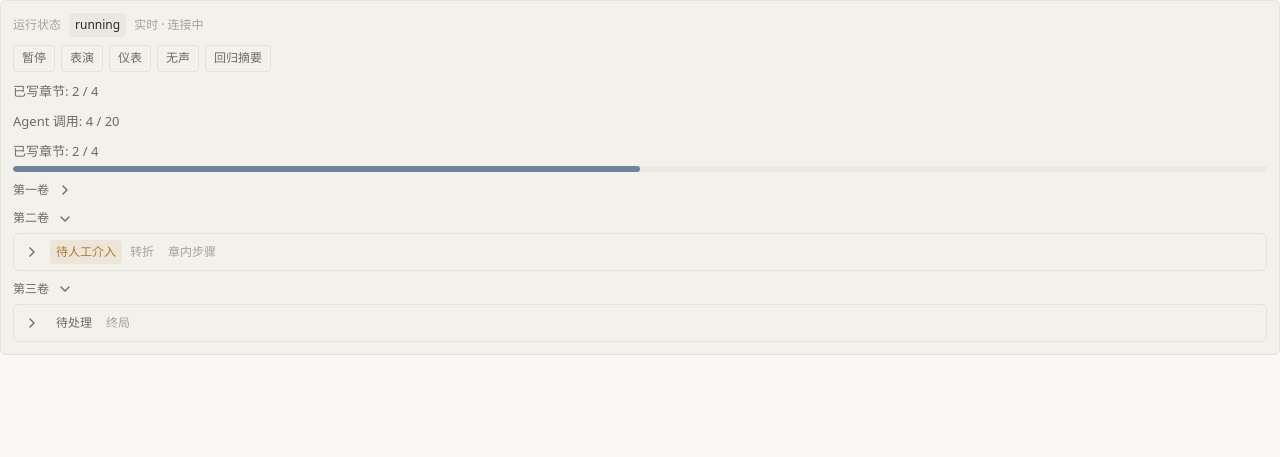
Test: #1333 任务列表 — 卷分组 + 已完成卷默认折叠（N24） › 按卷分组；全 done 的卷默认折叠（章行不渲染），可展开
Expected: the text with test id "task-volume-header-0" reads "第一卷", 13,181 -> 49,198
Expected: the element with test id "trace-row-o-v2c1" is shown, 13,233 -> 1267,271
What coordinates should you click on to do the following:
click the button with test id "task-volume-toggle-0"
I would click on:
 (65, 190)
Its box is 55,180 -> 75,200.
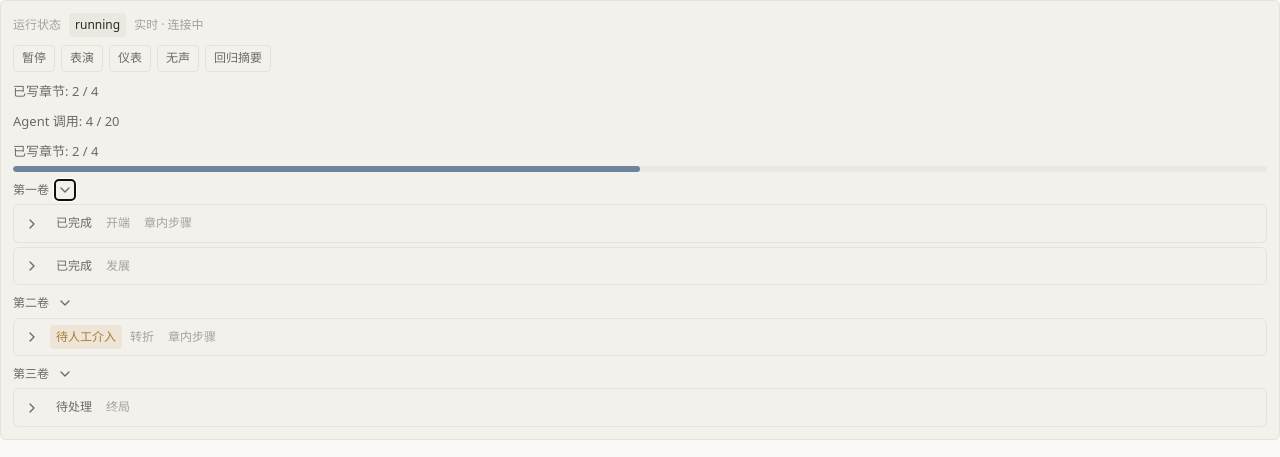
Expected: the element with test id "trace-row-o-v1c1" is shown, 13,204 -> 1267,243
Expected: the text with test id "trace-row-name-o-v1c1" reads "开端", 106,214 -> 130,232
